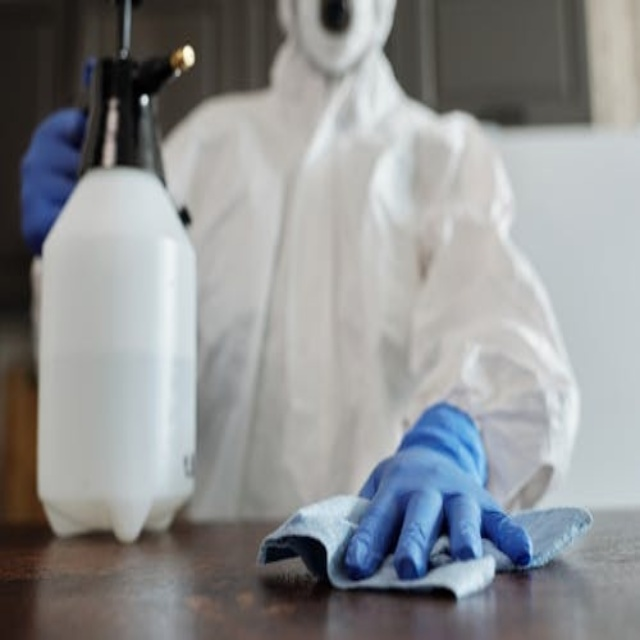Guantes: (344, 401, 533, 582), (21, 99, 89, 255)
